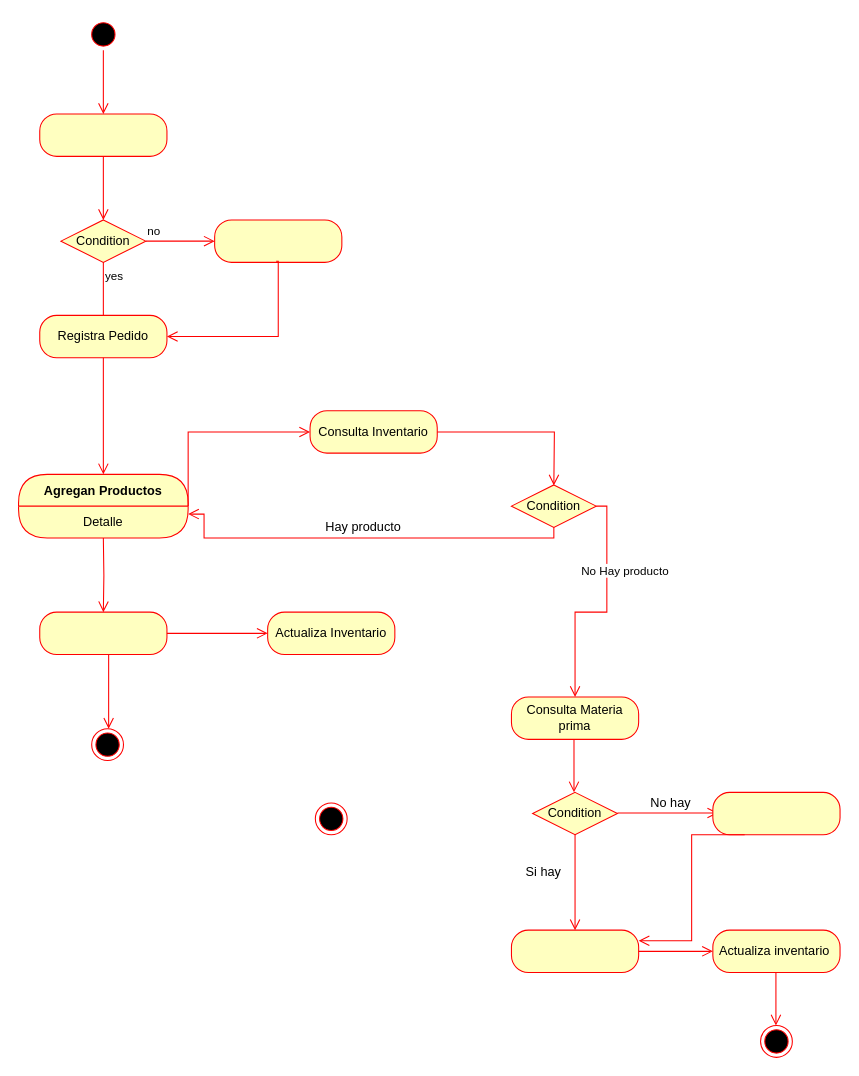
Some shapes in this 859 by 1076 pixel diagram are drawn without their labels. Each missing label, with the centre of its shape:
"Consulta Cliente" belongs at (x=103, y=134).
"Fabrica Productos" belongs at (x=574, y=951).
"Genera Venta" belongs at (x=103, y=633).
"Registra Cliente" belongs at (x=278, y=240).
"Solicita Materia prima" belongs at (x=776, y=813).
